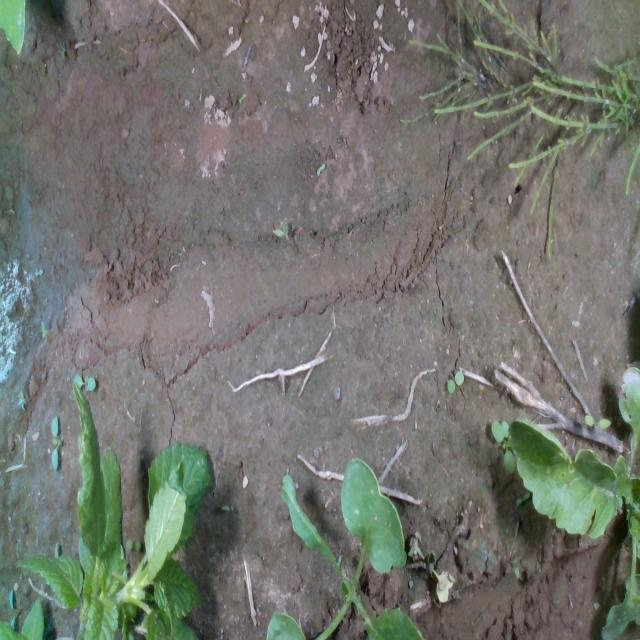weed: (583, 412, 611, 430), (446, 369, 465, 395), (50, 412, 58, 470), (125, 537, 141, 549), (34, 266, 44, 276)
